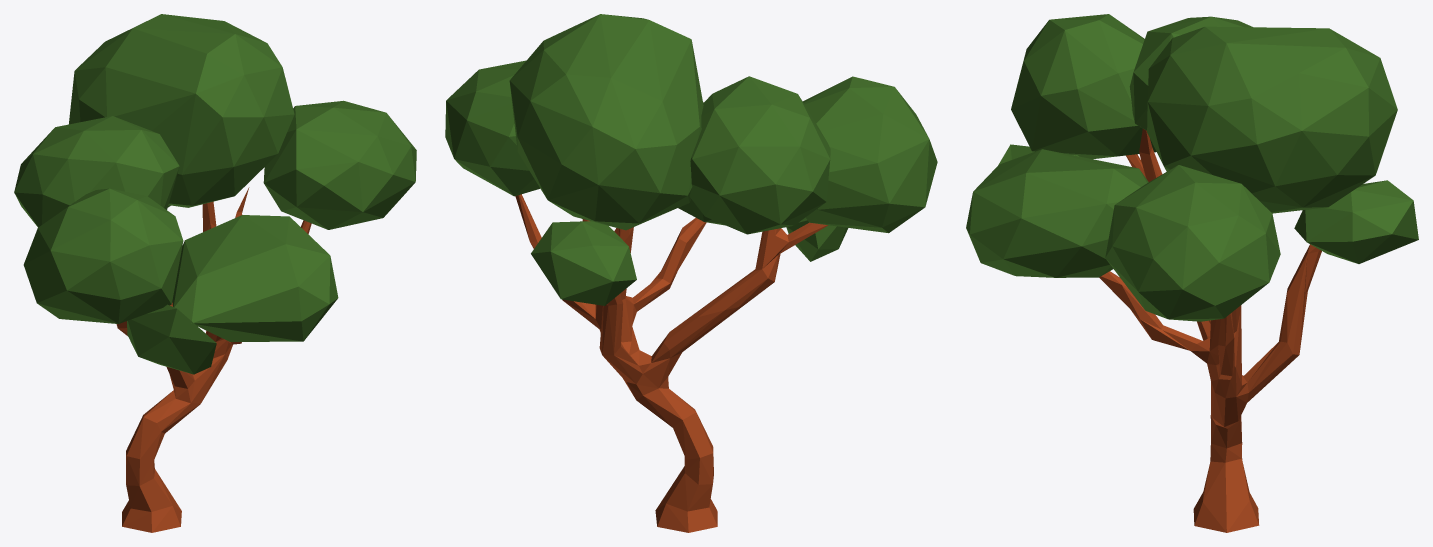
File: SM_tree_town_01.fbx
3 views of the same model, side by side, from view 1: azimuth 30°, elevation 25°; view 2: azimuth 150°, elevation 25°; view 3: azimuth 270°, elevation 25° (orthographic). The views are drawn at different scales.
Visible parts, largest first — view 1: Object291; view 2: Object291; view 3: Object291.
Boxes of the visible parts, x1=… form: Object291: x1=14, y1=14, x2=416, y2=532; Object291: x1=445, y1=14, x2=937, y2=532; Object291: x1=966, y1=14, x2=1418, y2=532.
Bounding box in the file's own units: 430 × 458 × 361.
